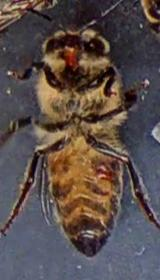varroa_mite: (80, 146, 128, 196)
